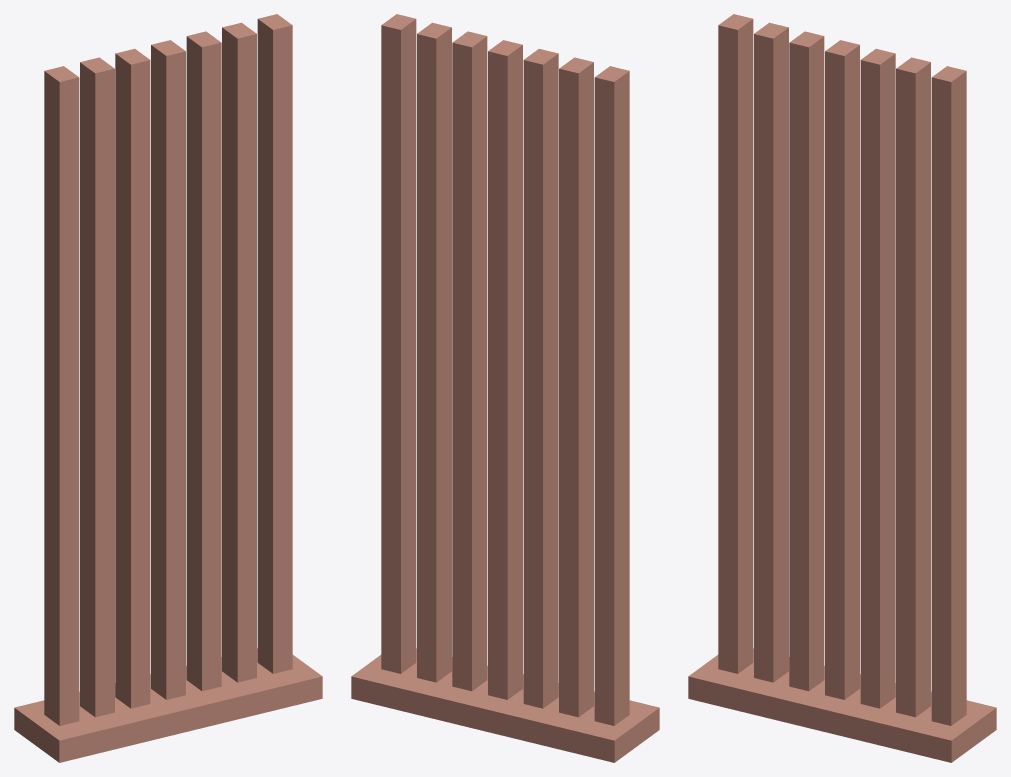
3 renders of one model, left to right at view 1: azimuth 30°, elevation 25°; view 2: azimuth 150°, elevation 25°; view 3: azimuth 330°, elevation 25°, orthographic.
Visible parts, largest first — view 1: Vertical wood slat, Vertical wood slat.002, Vertical wood slat.004, Vertical wood slat.006, Vertical wood slat.001, Vertical wood slat.003, Vertical wood slat.005, Acoustic panel foot; view 2: Vertical wood slat, Vertical wood slat.002, Vertical wood slat.004, Vertical wood slat.006, Vertical wood slat.001, Vertical wood slat.003, Vertical wood slat.005, Acoustic panel foot; view 3: Vertical wood slat, Vertical wood slat.002, Vertical wood slat.004, Vertical wood slat.006, Vertical wood slat.003, Vertical wood slat.005, Vertical wood slat.001, Acoustic panel foot.
Part boxes in pixels (box(x1,y1,x2,y2)): Vertical wood slat: box(44, 66, 79, 725); Vertical wood slat.002: box(115, 49, 150, 708); Vertical wood slat.004: box(186, 31, 221, 691); Vertical wood slat.006: box(257, 14, 292, 673); Vertical wood slat.001: box(80, 57, 114, 717); Vertical wood slat.003: box(151, 40, 185, 699); Vertical wood slat.005: box(222, 22, 256, 682); Acoustic panel foot: box(14, 648, 322, 762); Vertical wood slat: box(594, 66, 629, 725); Vertical wood slat.002: box(523, 49, 558, 708); Vertical wood slat.004: box(452, 31, 487, 691); Vertical wood slat.006: box(381, 14, 416, 673); Vertical wood slat.001: box(559, 57, 593, 717); Vertical wood slat.003: box(488, 40, 522, 699); Vertical wood slat.005: box(417, 22, 451, 682); Acoustic panel foot: box(351, 648, 659, 762); Vertical wood slat: box(718, 14, 753, 673); Vertical wood slat.002: box(789, 31, 824, 691); Vertical wood slat.004: box(860, 49, 895, 708); Vertical wood slat.006: box(931, 66, 966, 725); Vertical wood slat.003: box(825, 40, 859, 699); Vertical wood slat.005: box(896, 57, 930, 717); Vertical wood slat.001: box(754, 22, 788, 682); Acoustic panel foot: box(688, 648, 996, 762).
Size of the model in its own units: 0.74 by 1.79 by 0.22.
1 material, 1 textured.
